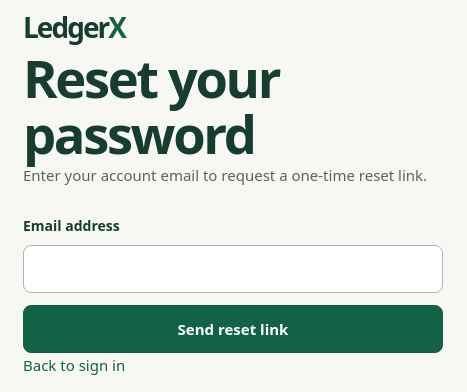
requests recovery without displaying a token or account existence
Type "synthetic@example.com" into the field labelled "Email address" at (233,269), box [23,245,443,293]
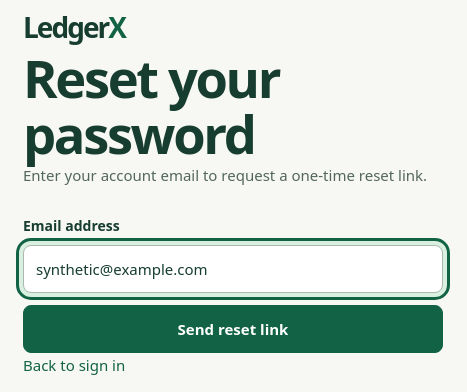
Click the button "Send reset link" at (233,329), box [23,305,443,353]
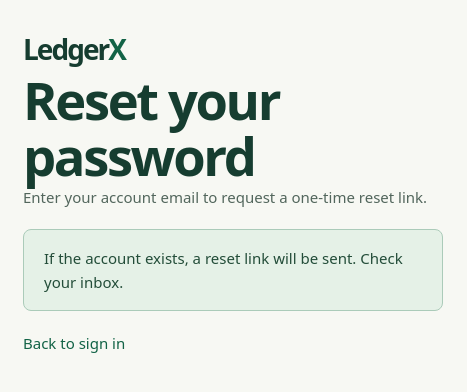
expect the message shows "If the account exists": met, box [44,248,403,292]
